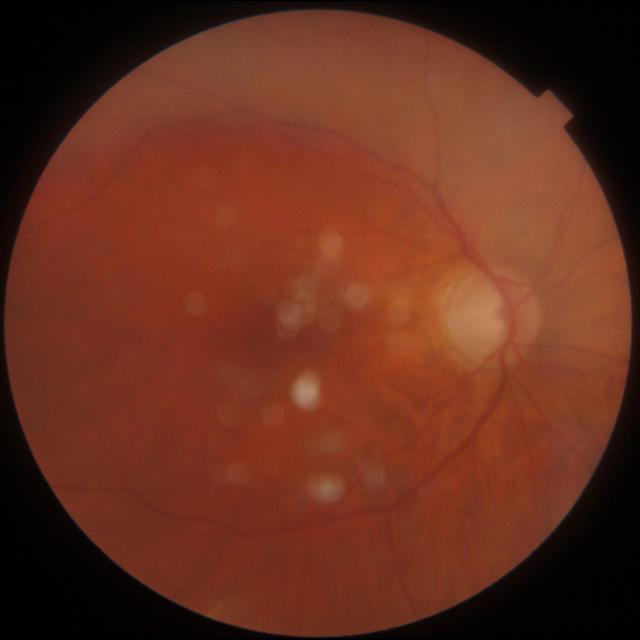OC: (472, 293, 508, 340)
OD: (447, 267, 540, 362)
